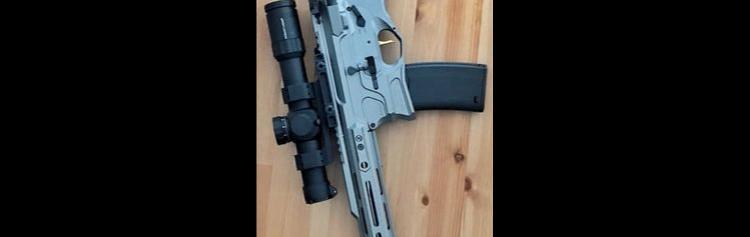gun: (262, 0, 487, 237)
